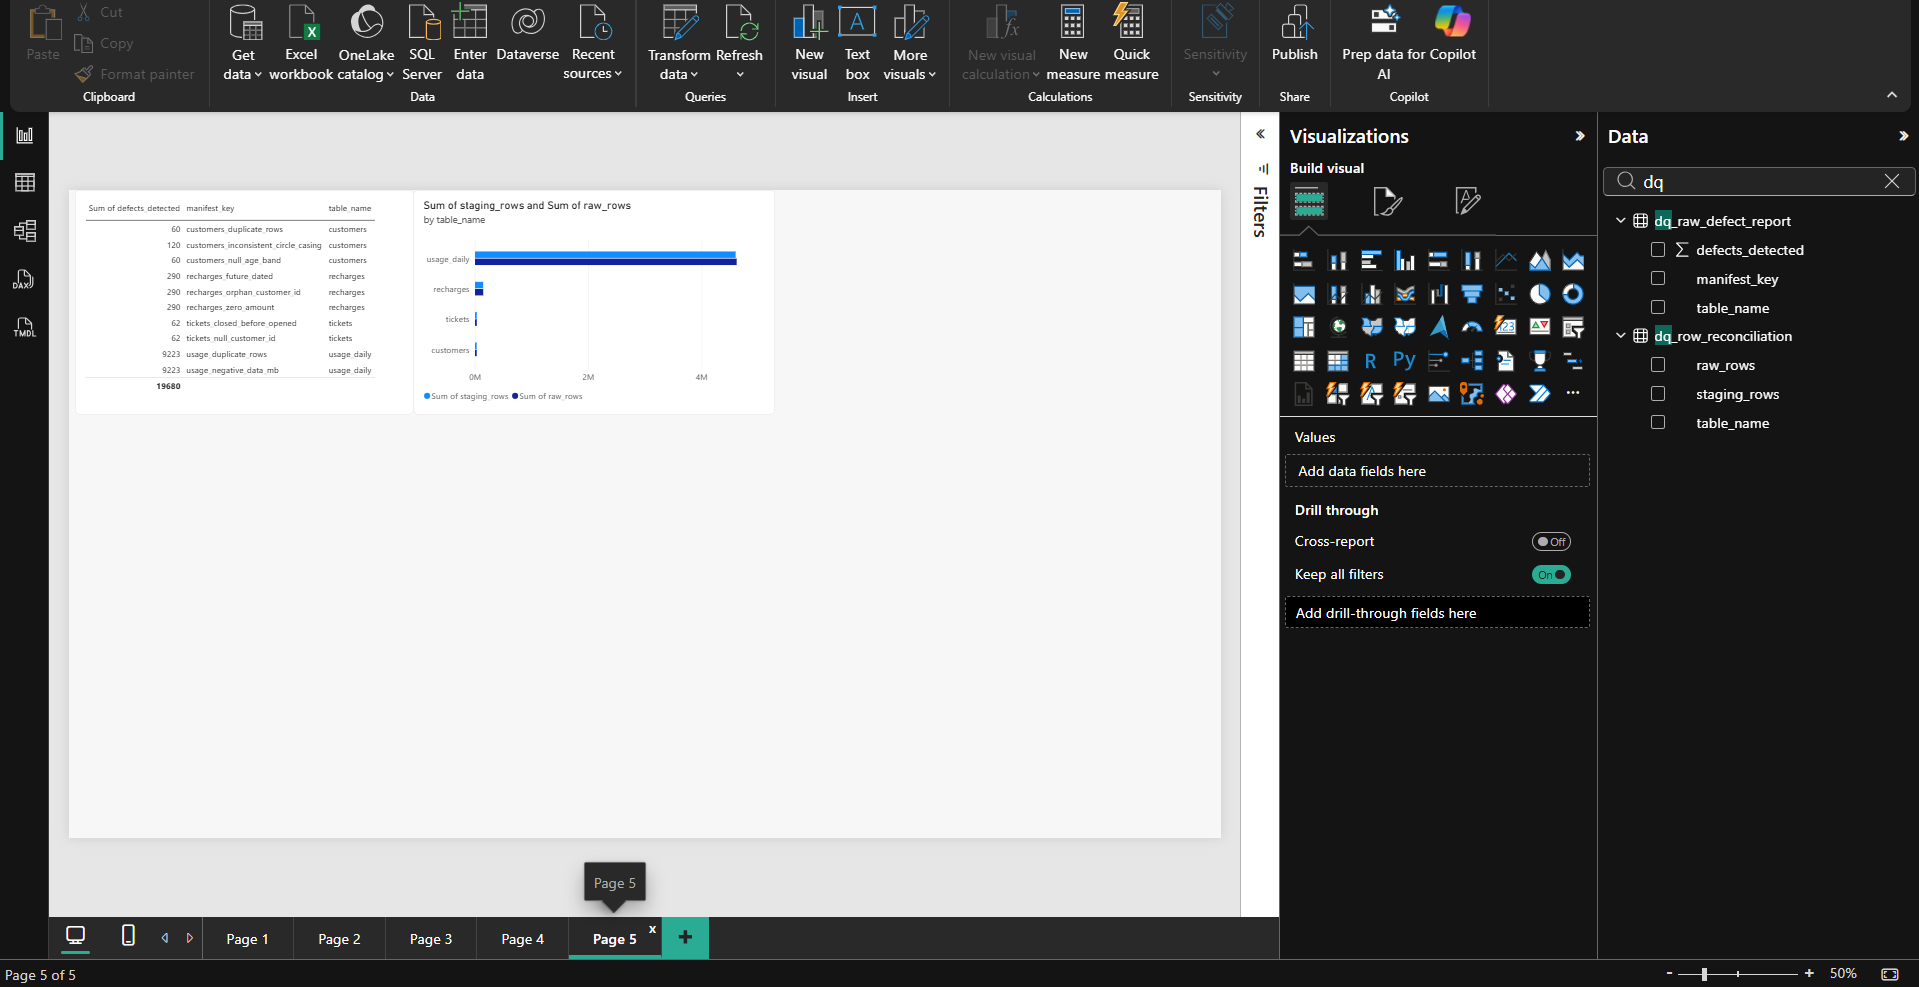

Layout of this report page (visuals, bound fields, positions):
{"tool":"powerbi","page":{"name":"Page 5","canvas":[1920,1080],"ordinal":4},"visuals":[{"type":"tableEx","fields":{"Values":["Sum(dq_raw_defect_report.defects_detected)","dq_raw_defect_report.manifest_key","dq_raw_defect_report.table_name"]},"box":[10,0,564.3,374.3],"z":0},{"type":"clusteredBarChart","fields":{"Category":["dq_row_reconciliation.table_name"],"Y":["Sum(dq_row_reconciliation.staging_rows)","Sum(dq_row_reconciliation.raw_rows)"]},"box":[574.3,0,602.9,374.3],"z":1}]}

Visuals, with their boxes on the page's 1920x1080 design canvas (x1, y1, x2, y2). These are canvas units, not pixel positions in the 1919x987 screenshot, which may show the page scaled, cropped or inside an application window:
tableEx - Sum(dq_raw_defect_report.defects_detected) x dq_raw_defect_report.manifest_key: [left=10, top=0, right=574, bottom=374]
clusteredBarChart - dq_row_reconciliation.table_name x Sum(dq_row_reconciliation.staging_rows): [left=574, top=0, right=1177, bottom=374]
